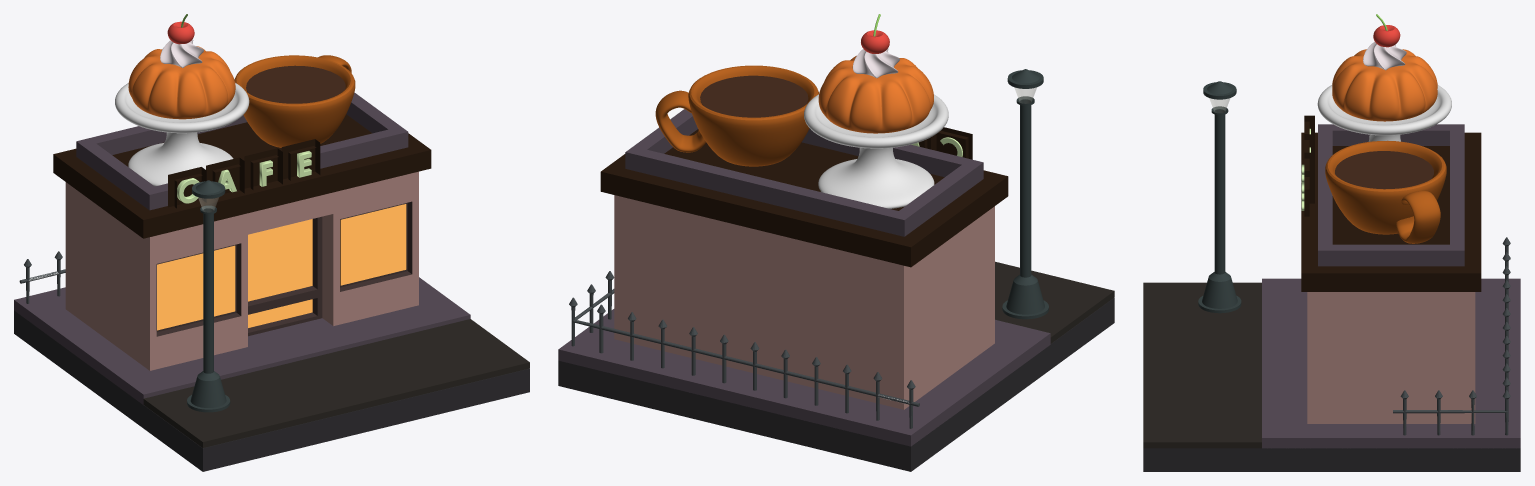
Rendered from cafe.glb.
3 renders of one model, left to right at view 1: azimuth 30°, elevation 25°; view 2: azimuth 150°, elevation 25°; view 3: azimuth 270°, elevation 25°, orthographic. The views are drawn at different scales.
Visible parts, largest first — view 1: 平面.022, 平面.004, 平面.023, 平面.003, 平面, 平面.024, 平面.030, 平面.026, 円柱.001, 平面.015, 円柱.002, 平面.025 (+13 smaller); view 2: 平面.004, 平面.023, 平面.003, 平面, 平面.026, 平面.030, 円柱.002, 平面.015, 円柱.001, 平面.006, 平面.022, 円柱 (+6 smaller); view 3: 平面.004, 平面.023, 平面.022, 平面.003, 平面, 平面.026, 円柱.001, 平面.015, 円柱, 円柱.002, 円, 平面.006 (+6 smaller).
Boxes of the visible parts, bbox=[...] form: 平面.022: bbox=[143, 319, 529, 447]; 平面.004: bbox=[65, 171, 418, 370]; 平面.023: bbox=[14, 277, 470, 404]; 平面.003: bbox=[53, 114, 431, 238]; 平面: bbox=[14, 310, 529, 471]; 平面.024: bbox=[157, 204, 406, 330]; 平面.030: bbox=[65, 197, 149, 344]; 平面.026: bbox=[76, 92, 408, 210]; 円柱.001: bbox=[128, 46, 235, 119]; 平面.015: bbox=[234, 55, 355, 147]; 円柱.002: bbox=[115, 83, 249, 186]; 平面.025: bbox=[248, 219, 312, 327]; 平面.004: bbox=[614, 195, 994, 409]; 平面.023: bbox=[558, 309, 1050, 446]; 平面.003: bbox=[600, 129, 1008, 267]; 平面: bbox=[558, 297, 1114, 471]; 平面.026: bbox=[625, 109, 983, 236]; 平面.030: bbox=[904, 222, 994, 381]; 円柱.002: bbox=[804, 94, 948, 208]; 平面.015: bbox=[688, 65, 818, 166]; 円柱.001: bbox=[818, 55, 933, 133]; 平面.006: bbox=[569, 271, 919, 428]; 平面.022: bbox=[995, 261, 1114, 343]; 円柱: bbox=[700, 75, 808, 117]; 平面.004: bbox=[1307, 292, 1475, 423]; 平面.023: bbox=[1262, 278, 1520, 448]; 平面.022: bbox=[1143, 282, 1261, 448]; 平面.003: bbox=[1301, 132, 1481, 291]; 平面: bbox=[1143, 448, 1520, 471]; 平面.026: bbox=[1318, 124, 1464, 266]; 円柱.001: bbox=[1332, 49, 1437, 121]; 平面.015: bbox=[1325, 140, 1446, 234]; 円柱: bbox=[1335, 151, 1433, 189]; 円柱.002: bbox=[1317, 85, 1451, 141]; 円: bbox=[1211, 106, 1228, 274]; 平面.006: bbox=[1393, 237, 1510, 435].
Size of the model in its own units: 8.01 by 8.12 by 8.
